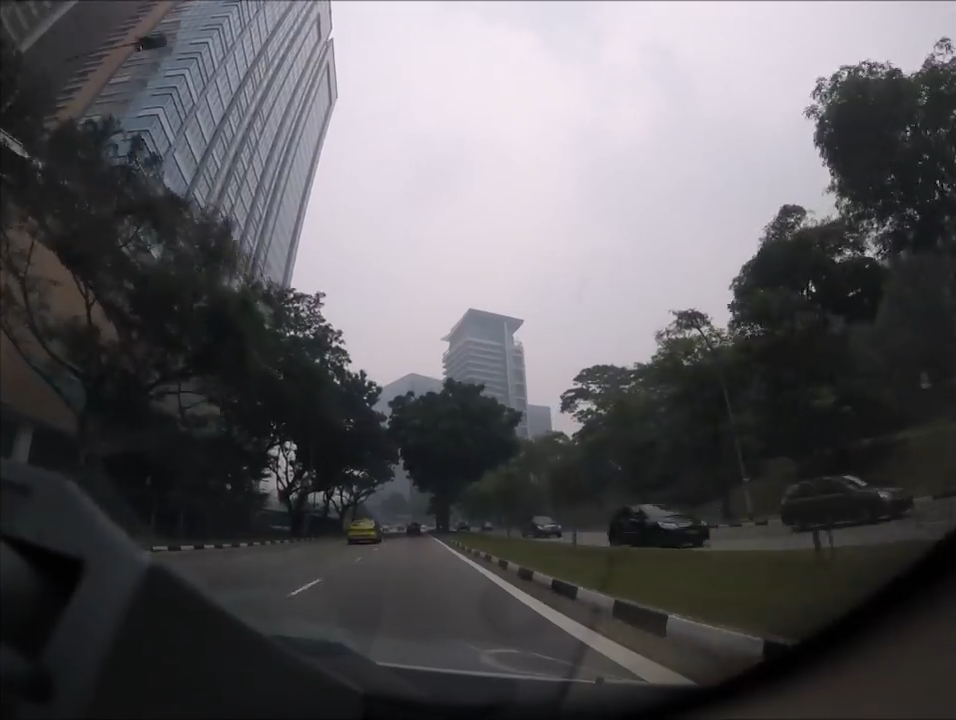car: (779, 472, 913, 533), (605, 500, 711, 549), (519, 513, 561, 539), (346, 517, 383, 544)
